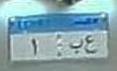1: (30, 37, 39, 56)
ain: (84, 35, 98, 54)
baa: (66, 38, 84, 55)
